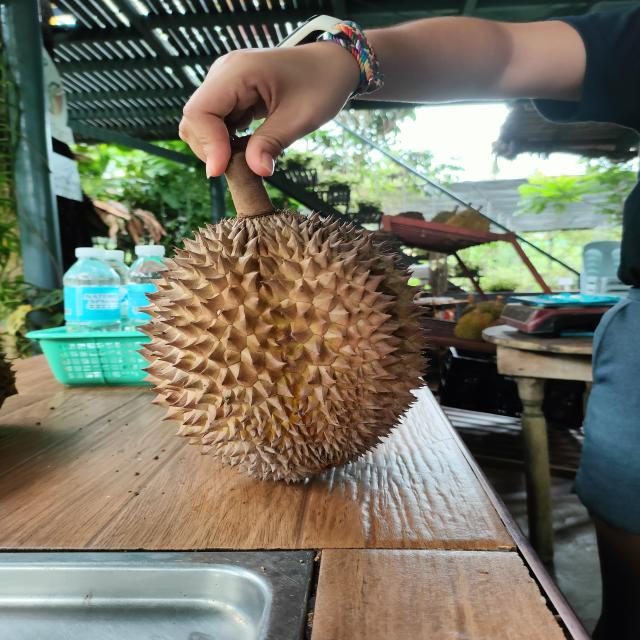mature: (140, 210, 425, 481)
